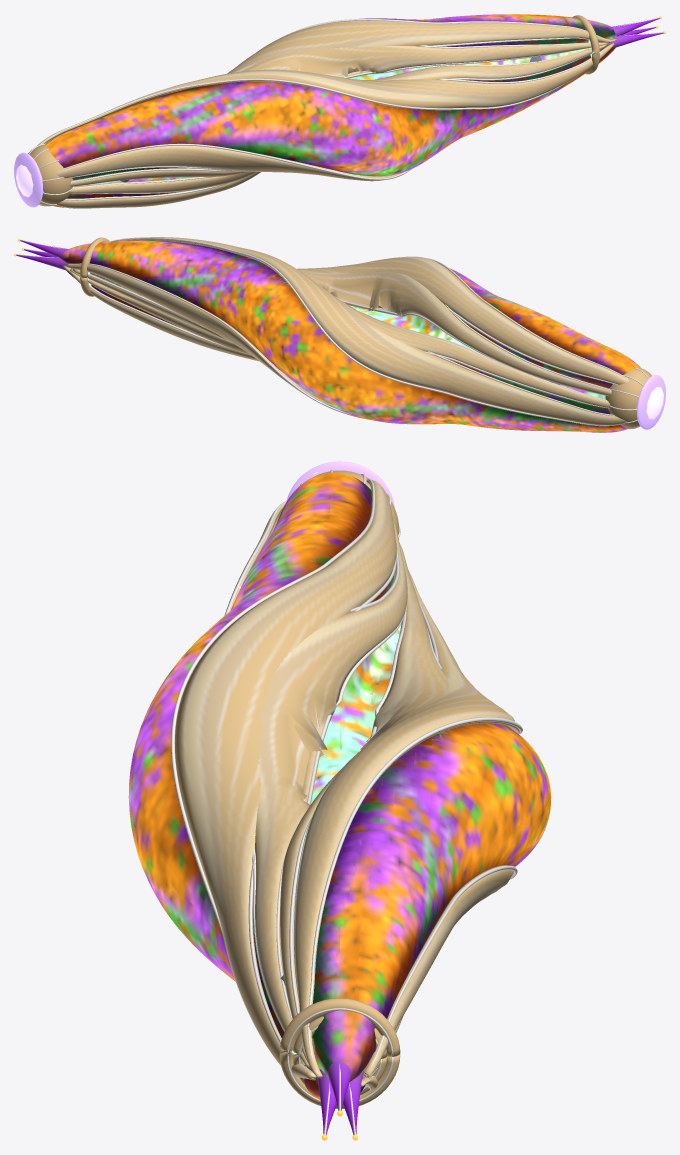
3 renders of one model, top to bottom at view 1: azimuth 30°, elevation 25°; view 2: azimuth 150°, elevation 25°; view 3: azimuth 270°, elevation 25°, orthographic. The views are drawn at different scales.
Parts seen in each view (by area): view 1: I14_23; view 2: I14_23; view 3: I14_23.
Part boxes in pixels (x1=…): I14_23: x1=14, y1=14, x2=665, y2=208; I14_23: x1=14, y1=237, x2=665, y2=432; I14_23: x1=128, y1=461, x2=551, y2=1140.
Size of the model in its own units: 1 by 0.1907 by 0.2849.
12 materials, 2 textured.
